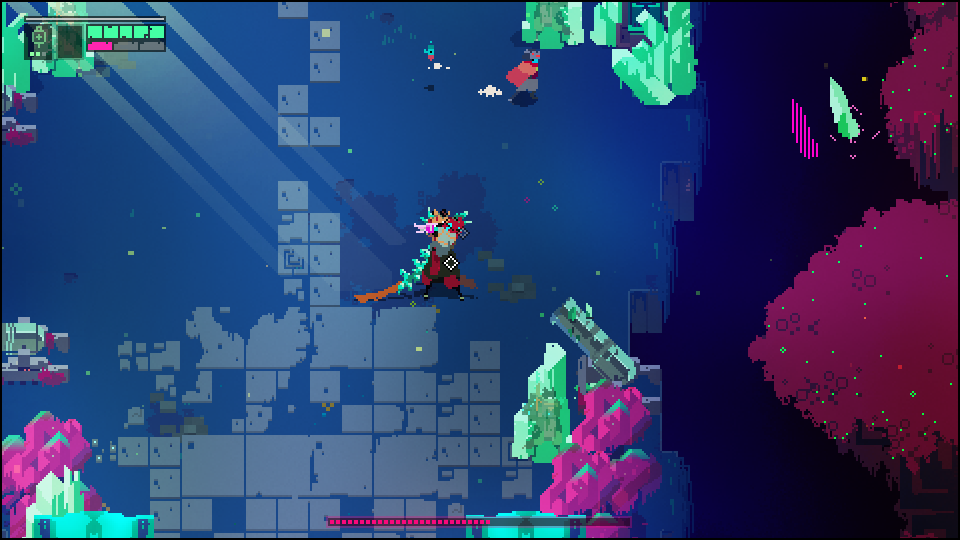hanged_crys: (827, 75, 861, 138), (789, 95, 823, 158)
hanged_man: (380, 199, 484, 307)
player: (506, 46, 546, 106)
